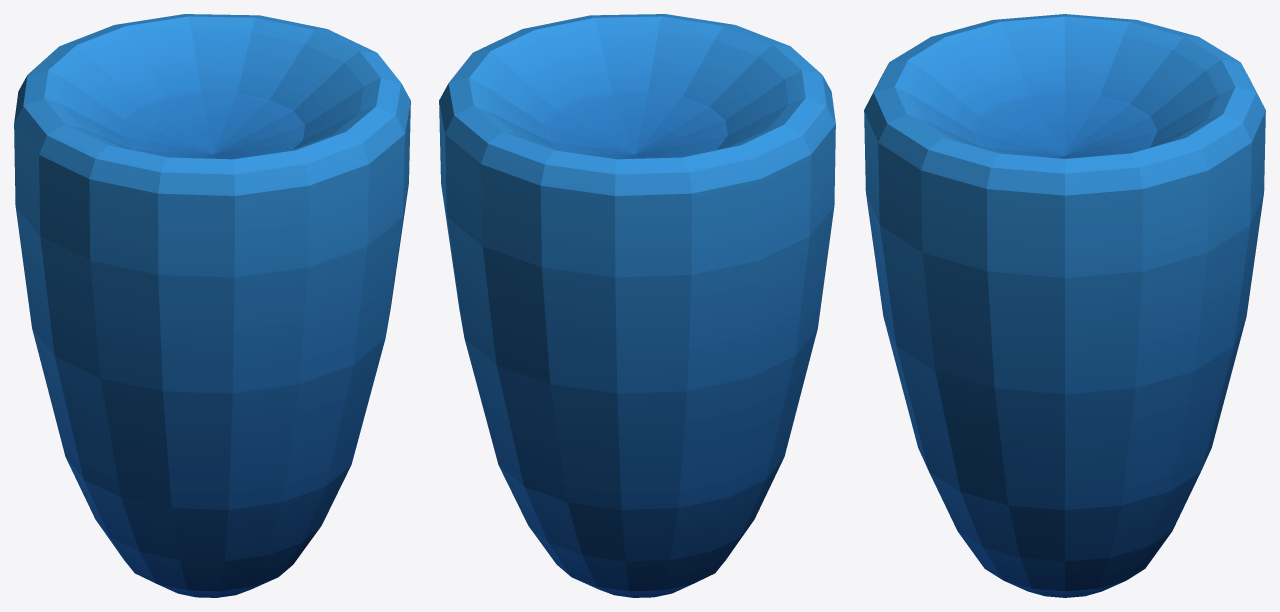
File: corpo.fbx
3 renders of one model, left to right at view 1: azimuth 30°, elevation 25°; view 2: azimuth 150°, elevation 25°; view 3: azimuth 270°, elevation 25°, orthographic.
Parts seen in each view (by area): view 1: Sphere; view 2: Sphere; view 3: Sphere.
Part boxes in pixels (bbox=[...]): Sphere: bbox=[14, 14, 410, 597]; Sphere: bbox=[439, 14, 835, 597]; Sphere: bbox=[864, 14, 1265, 597].
Size of the model in its own units: 233 by 314 by 233.
